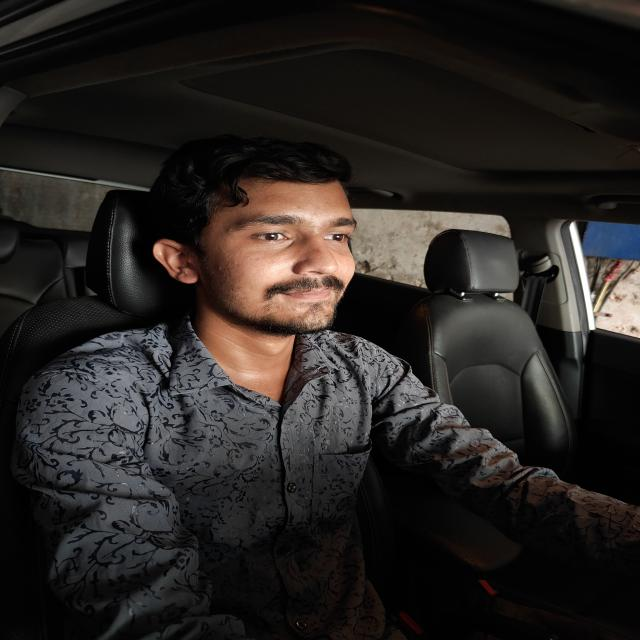no-seatbelt: (0, 320, 465, 640)
